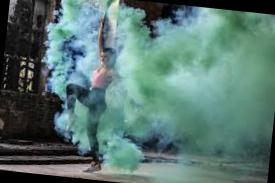Smoke: (111, 0, 275, 169)
